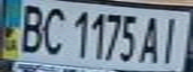1: (66, 7, 90, 58), (87, 9, 109, 61)
5: (118, 11, 142, 64)
7: (103, 10, 124, 62)
A: (136, 12, 166, 64)
B: (12, 1, 48, 55)
C: (36, 3, 69, 57)
I: (157, 13, 187, 64)
